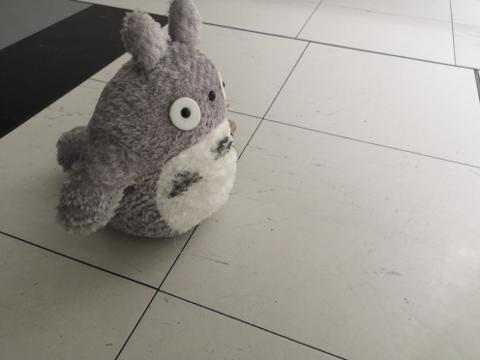totoro: (52, 1, 242, 243)
